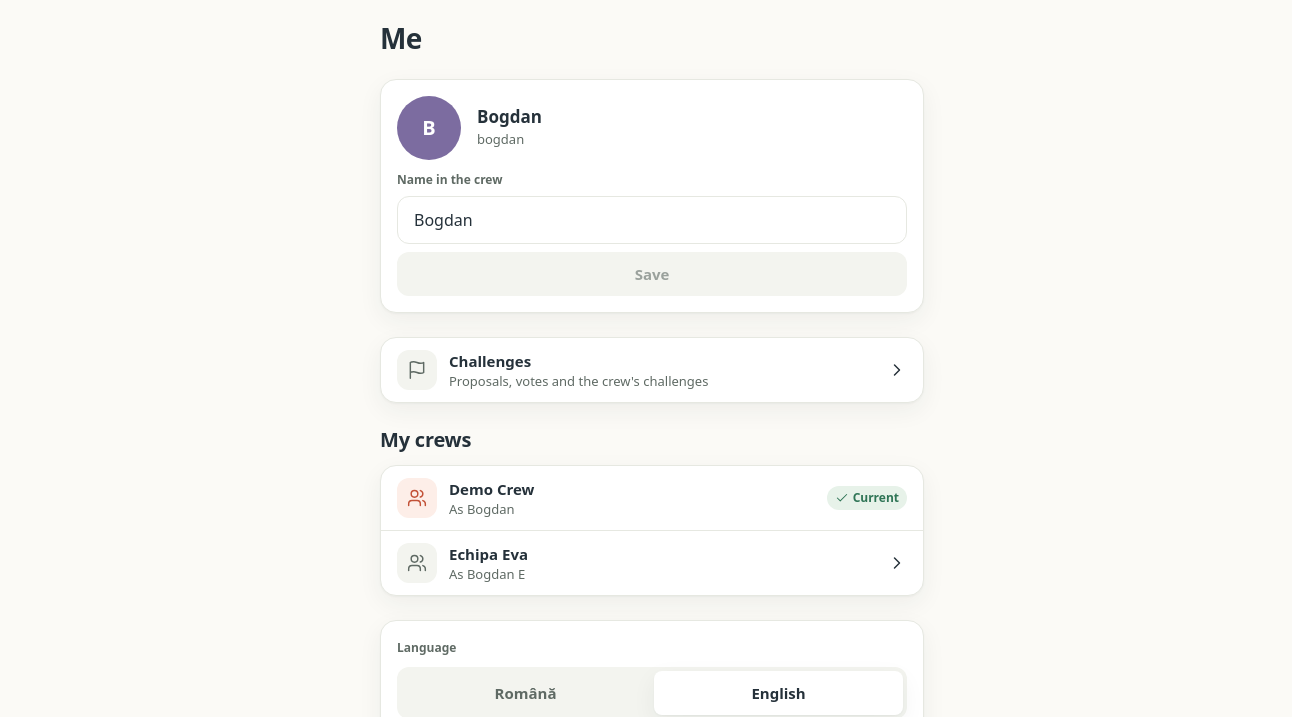
Scenario: me screen › lists every crew and switches to another one
Expected: the text "Current" is shown, [827,486,907,510]
Click the button "Echipa Eva As Bogdan E".
click(417, 563)  # box [381,531,923,595]
(page scrolled)
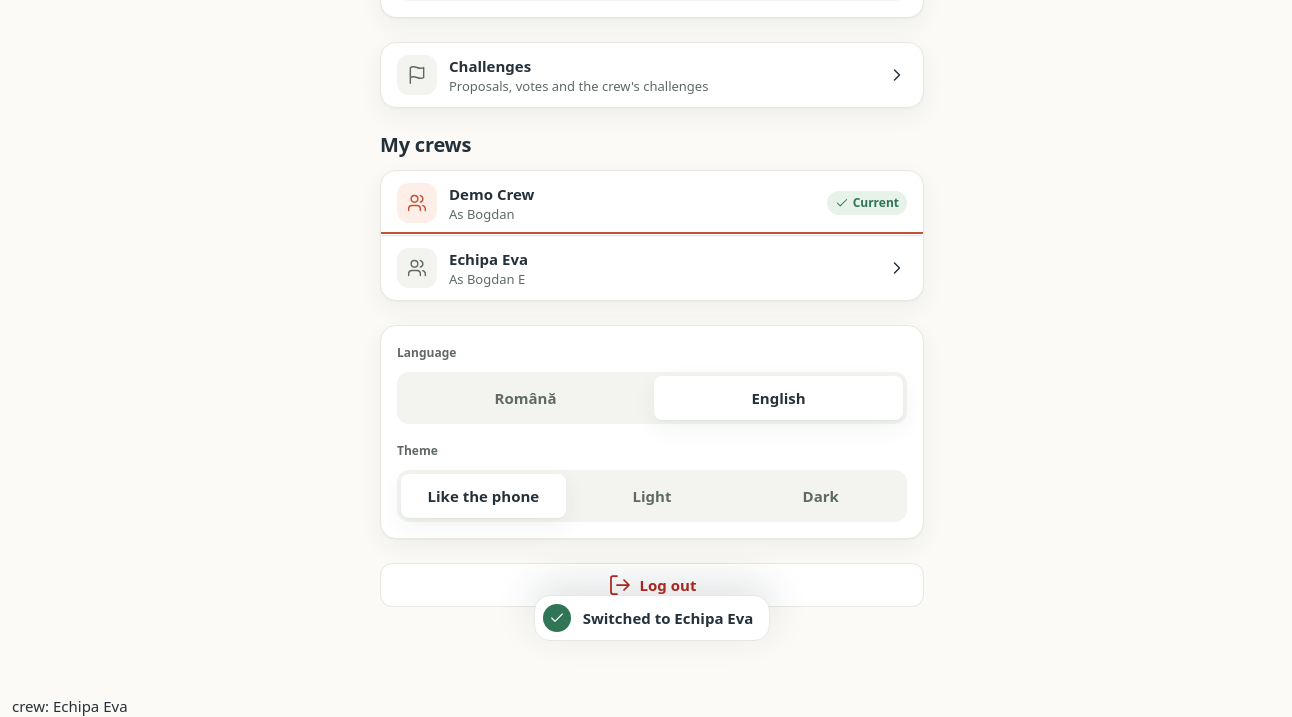
Now the text "Switched to Echipa Eva" is shown, box [534,595,770,641]
Now the text "crew: Echipa Eva" is shown, box [12,696,128,716]
